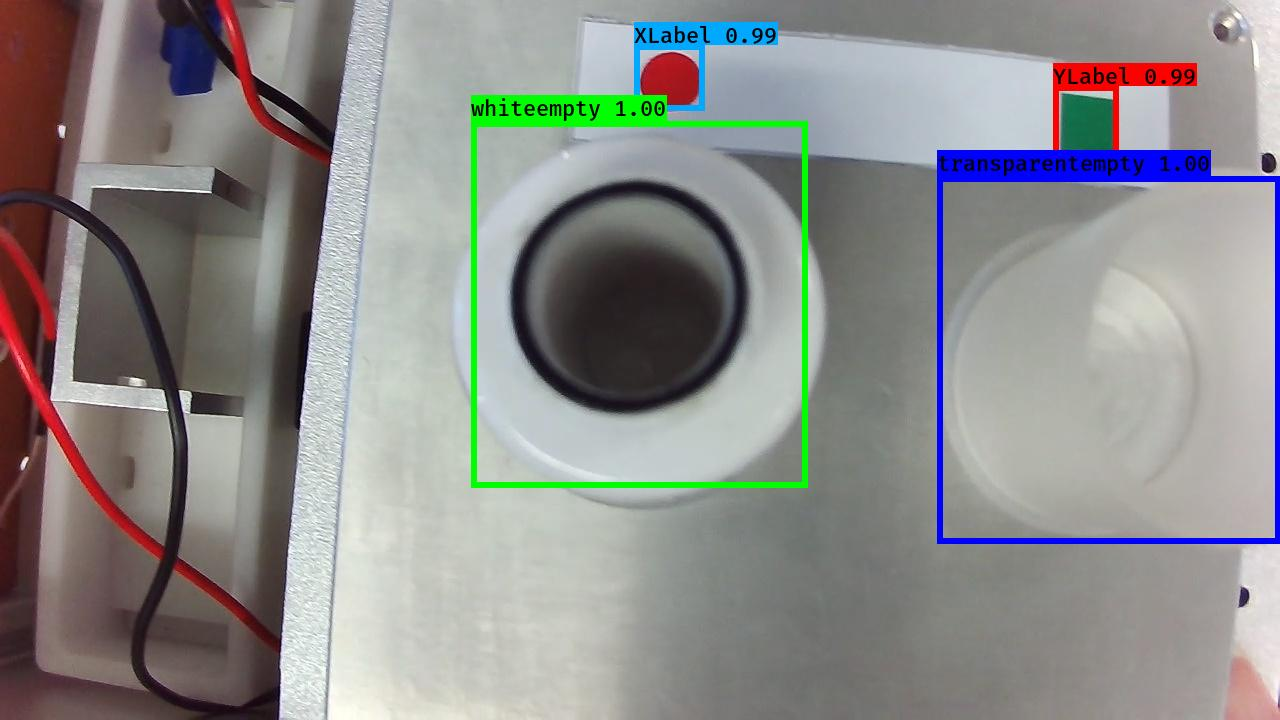XLabel: (636, 45, 705, 114)
YLabel: (1053, 89, 1124, 162)
transparentempty: (930, 162, 1280, 558)
whiteempty: (440, 127, 832, 512)
